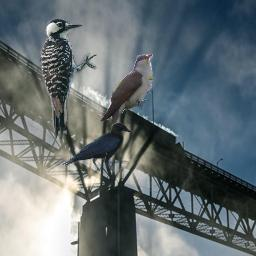Crow: (61, 122, 133, 173)
Cuckoo: (100, 54, 153, 156)
Woodpecker: (38, 18, 99, 140)
